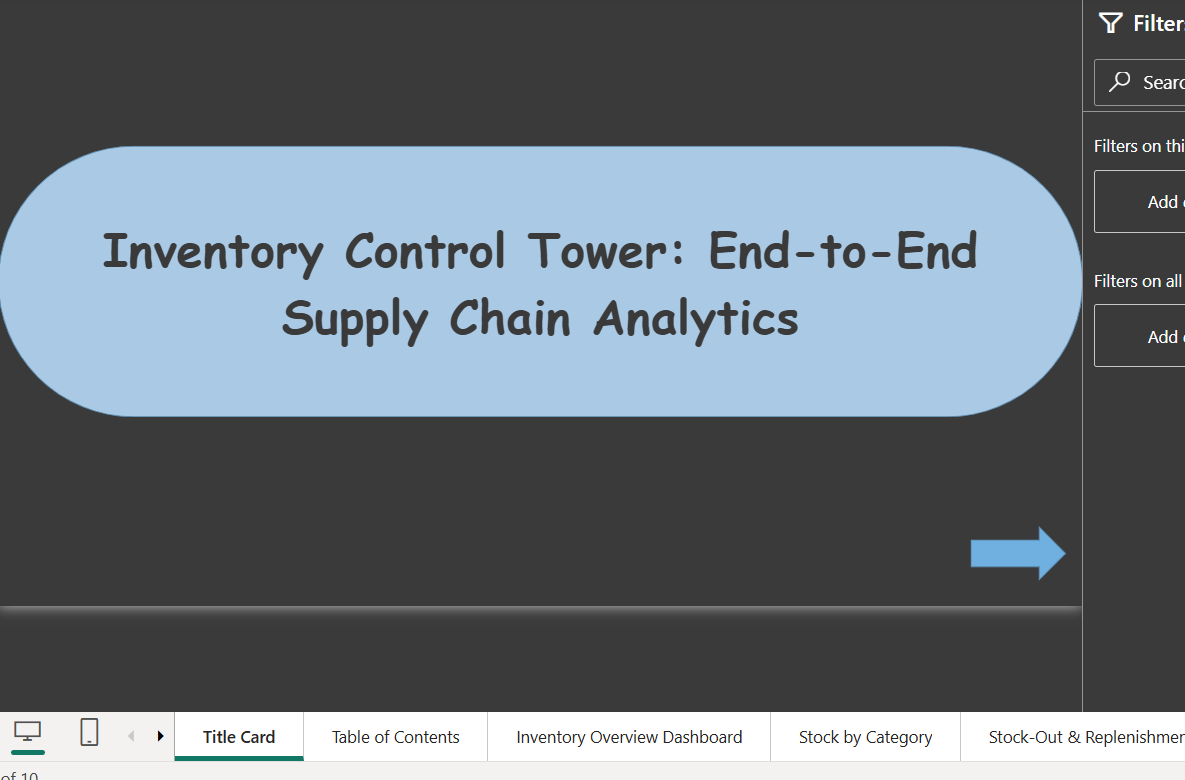

The dashboard page shown, as its layout file describes it:
{"tool":"powerbi","page":{"name":"Title Card","canvas":[1280,720],"ordinal":0},"visuals":[{"type":"shape","box":[0,177.5,1280.6,320.2],"z":0},{"type":"shape","box":[1147.9,625.4,112.8,64.7],"z":1000}]}

Visuals, with their boxes on the page's 1280x720 design canvas (x1, y1, x2, y2). These are canvas units, not pixel positions in the 1185x780 screenshot, which may show the page scaled, cropped or inside an application window:
shape: l=0, t=178, r=1281, b=498
shape: l=1148, t=625, r=1261, b=690
